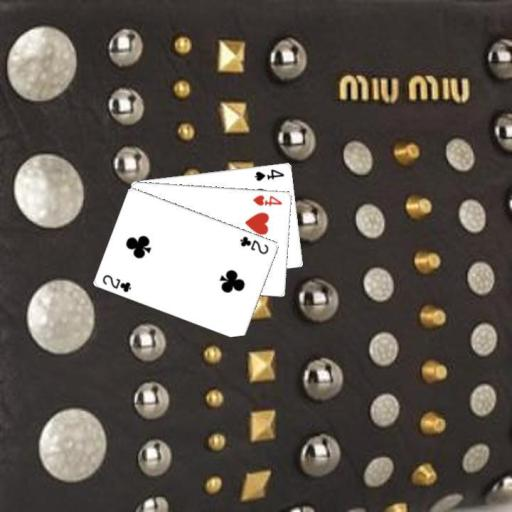2C: (100, 271, 133, 294), (237, 234, 270, 256)
4H: (250, 191, 284, 207)
4S: (252, 166, 286, 182)
